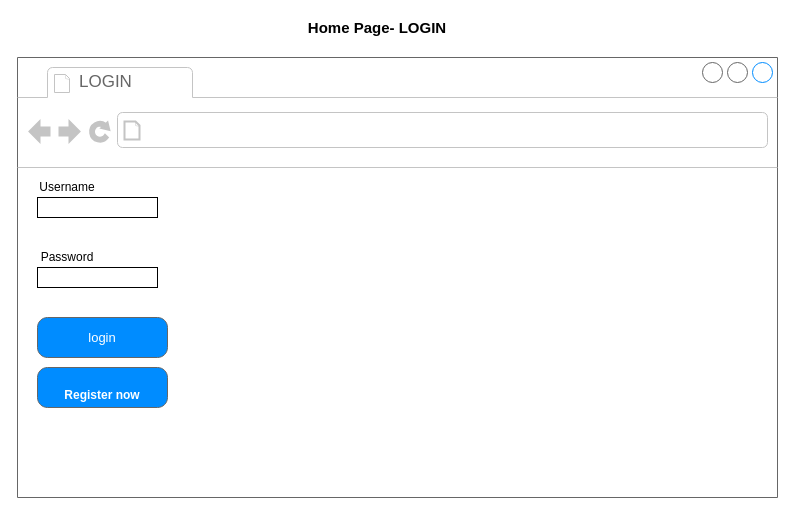
This 795x515 diagram has some shape labels left out. The centre of each missing label's shape, as x and y in pixels:
"api/login" goes at [272,130].
"New?" goes at [102,381].
